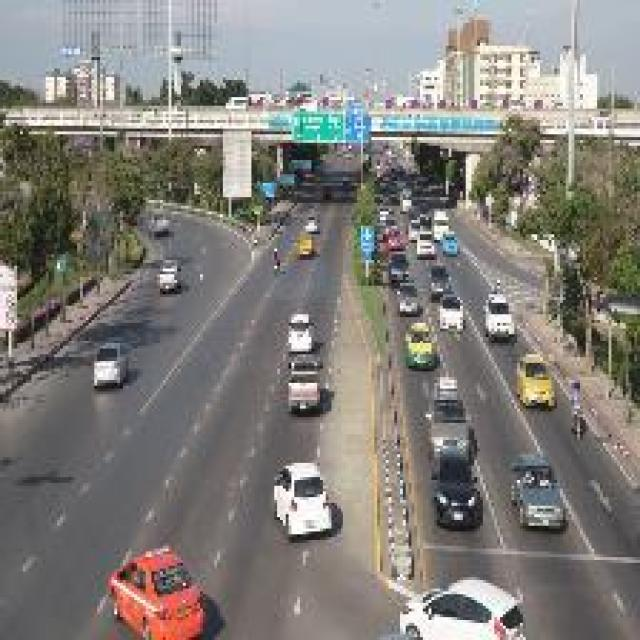other: (86, 540, 204, 629), (502, 348, 560, 408)
